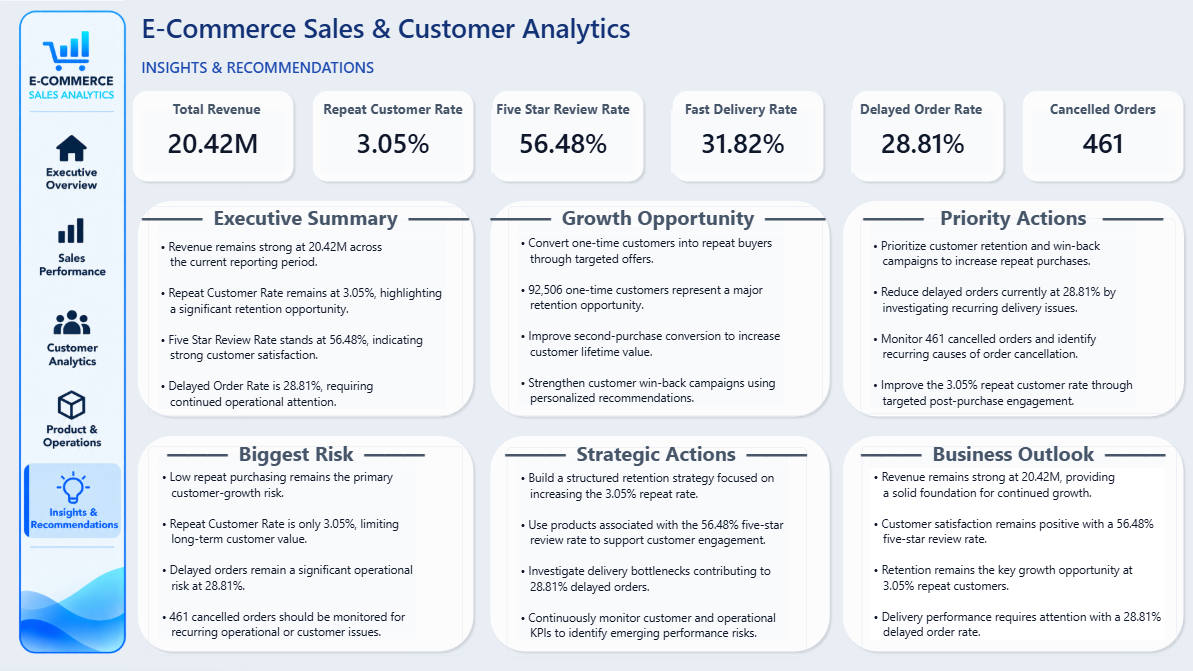

Layout of this report page (visuals, bound fields, positions):
{"tool":"powerbi","page":{"name":"Insights & Recommendations","canvas":[1920,1080],"ordinal":4},"visuals":[{"type":"shape","box":[0,-8,208,1088],"z":0},{"type":"image","box":[0,8,400,1072],"z":1000},{"type":"shape","box":[208,144,272,160],"z":2000},{"type":"shape","box":[1632,144,272,160],"z":4000},{"type":"shape","box":[496,144,272,160],"z":5000},{"type":"shape","box":[784,144,256,160],"z":6000},{"type":"shape","box":[1360,144,256,160],"z":7000},{"type":"shape","box":[1072,144,256,160],"z":8000},{"type":"cardVisual","fields":{"Data":["Table.Five Star Review Rate"]},"box":[784,176,240,112],"z":9000},{"type":"cardVisual","fields":{"Data":["Table.Repeat Customer Rate"]},"box":[512,176,240,112],"z":10000},{"type":"cardVisual","fields":{"Data":["Table.Delayed Order Rate"]},"box":[1360,176,240,112],"z":11000},{"type":"cardVisual","fields":{"Data":["Table.Fast Delivery Rate"]},"box":[1072,176,240,112],"z":12000},{"type":"cardVisual","fields":{"Data":["Table.Canceled Orders"]},"box":[1648,176,240,112],"z":13000},{"type":"cardVisual","fields":{"Data":["Sales Analytics.Total Revenue"]},"box":[224,176,240,112],"z":14000},{"type":"textbox","box":[496,160,272,48],"z":15000},{"type":"textbox","box":[768,160,272,48],"z":16000},{"type":"textbox","box":[1056,160,272,48],"z":17000},{"type":"textbox","box":[1344,160,272,48],"z":18000},{"type":"textbox","box":[1632,160,272,48],"z":19000},{"type":"textbox","box":[208,160,272,48],"z":20000},{"type":"textbox","box":[224,16,848,80],"z":21000},{"type":"textbox","box":[224,91,704,64],"z":22000},{"type":"shape","box":[216,319,552,360],"z":23000},{"type":"shape","box":[216,696,552,360],"z":24000},{"type":"tableEx","title":"Insights","fields":{"Values":["Table 2.Biggest Risk"]},"box":[240,720,504,336],"z":25000},{"type":"shape","box":[779,319,558,360],"z":26000},{"type":"shape","box":[779,696,558,360],"z":26500},{"type":"tableEx","title":"Insights","fields":{"Values":["Table 2.Executive Summary"]},"box":[240,336,504,336],"z":27000},{"type":"shape","box":[1344,696,560,360],"z":27500},{"type":"tableEx","title":"Insights","fields":{"Values":["Table 2.Growth Opportunities"]},"box":[816,336,504,336],"z":28000},{"type":"shape","box":[1344,319,561,360],"z":28500},{"type":"tableEx","title":"Insights","fields":{"Values":["Table 2.Strategic Actions"]},"box":[813,721,480,336],"z":29000},{"type":"textbox","box":[768,704,552,72],"z":30000},{"type":"textbox","box":[768,325,576,72],"z":31000},{"type":"tableEx","title":"Insights","fields":{"Values":["Table 2.Priority Actions"]},"box":[1379,356,504,312],"z":32000},{"type":"tableEx","title":"Insights","fields":{"Values":["Table 2.Business Outlook"]},"box":[1382,720,504,336],"z":33000},{"type":"textbox","box":[216,704,504,72],"z":34000},{"type":"textbox","box":[216,325,552,72],"z":35000},{"type":"textbox","box":[1344,704,552,72],"z":36000},{"type":"textbox","box":[1344,325,552,72],"z":37000}]}

Visuals, with their boxes in screenshot pixels (x1, y1, x2, y2), scaled from the page's 1920x1080 canvas onto the 1193x671 screenshot:
shape: box(0, 0, 129, 670)
image: box(0, 5, 249, 670)
shape: box(129, 89, 298, 189)
shape: box(1014, 89, 1183, 189)
shape: box(308, 89, 477, 189)
shape: box(487, 89, 646, 189)
shape: box(845, 89, 1004, 189)
shape: box(666, 89, 825, 189)
cardVisual - Table.Five Star Review Rate: box(487, 109, 636, 179)
cardVisual - Table.Repeat Customer Rate: box(318, 109, 467, 179)
cardVisual - Table.Delayed Order Rate: box(845, 109, 994, 179)
cardVisual - Table.Fast Delivery Rate: box(666, 109, 815, 179)
cardVisual - Table.Canceled Orders: box(1024, 109, 1173, 179)
cardVisual - Sales Analytics.Total Revenue: box(139, 109, 288, 179)
textbox: box(308, 99, 477, 129)
textbox: box(477, 99, 646, 129)
textbox: box(656, 99, 825, 129)
textbox: box(835, 99, 1004, 129)
textbox: box(1014, 99, 1183, 129)
textbox: box(129, 99, 298, 129)
textbox: box(139, 10, 666, 60)
textbox: box(139, 57, 577, 96)
shape: box(134, 198, 477, 422)
shape: box(134, 432, 477, 656)
"Insights" tableEx: box(149, 447, 462, 656)
shape: box(484, 198, 831, 422)
shape: box(484, 432, 831, 656)
"Insights" tableEx: box(149, 209, 462, 418)
shape: box(835, 432, 1183, 656)
"Insights" tableEx: box(507, 209, 820, 418)
shape: box(835, 198, 1184, 422)
"Insights" tableEx: box(505, 448, 803, 657)
textbox: box(477, 437, 820, 482)
textbox: box(477, 202, 835, 247)
"Insights" tableEx: box(857, 221, 1170, 415)
"Insights" tableEx: box(859, 447, 1172, 656)
textbox: box(134, 437, 447, 482)
textbox: box(134, 202, 477, 247)
textbox: box(835, 437, 1178, 482)
textbox: box(835, 202, 1178, 247)
